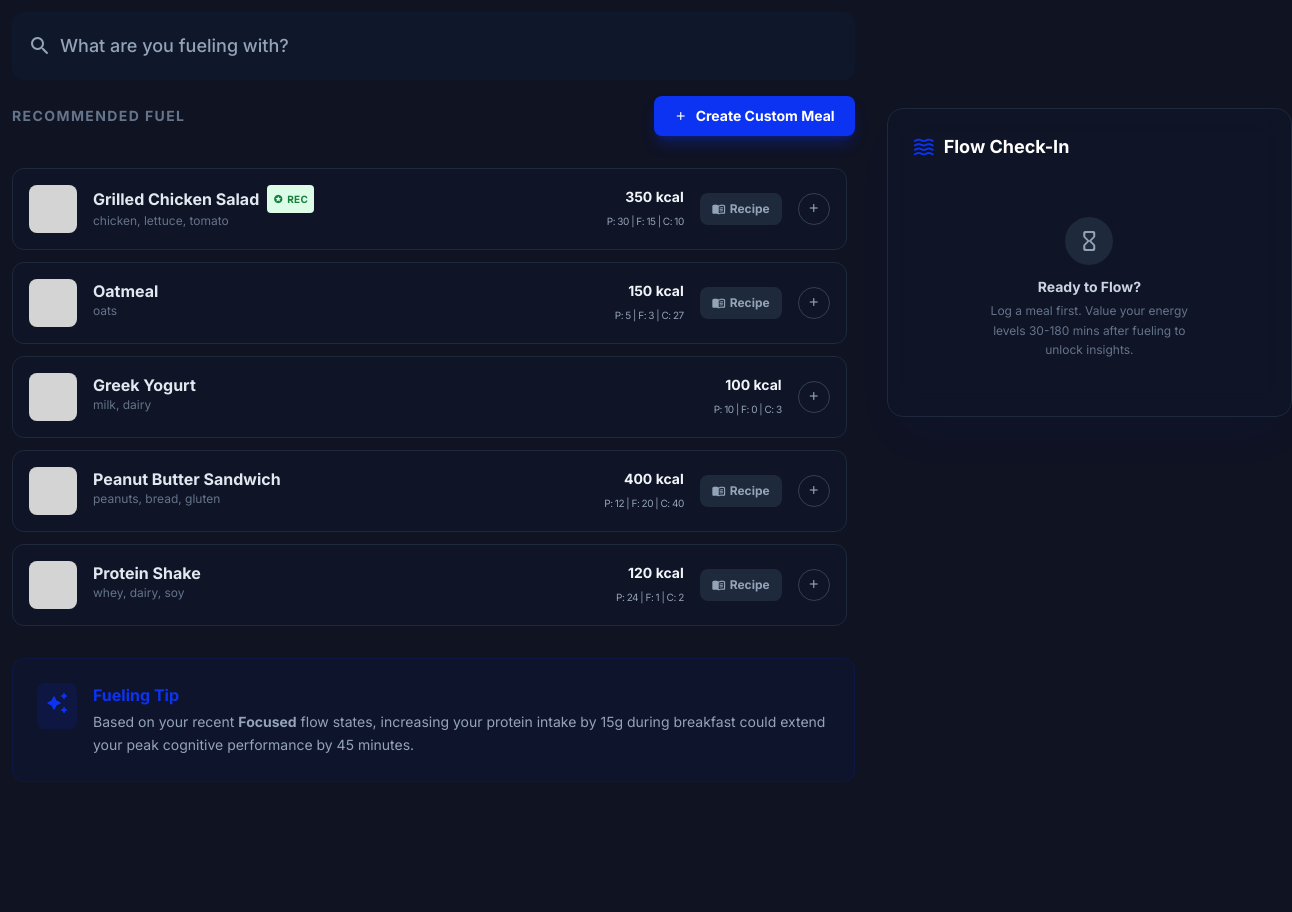
Test: FoodLogger Component › Search Functionality › filters results when typing
The image size is (1292, 912).
Step 1. Type "Donut" into the field with placeholder "What are you fueling with?" → (433, 46), box [12,12,855,80]
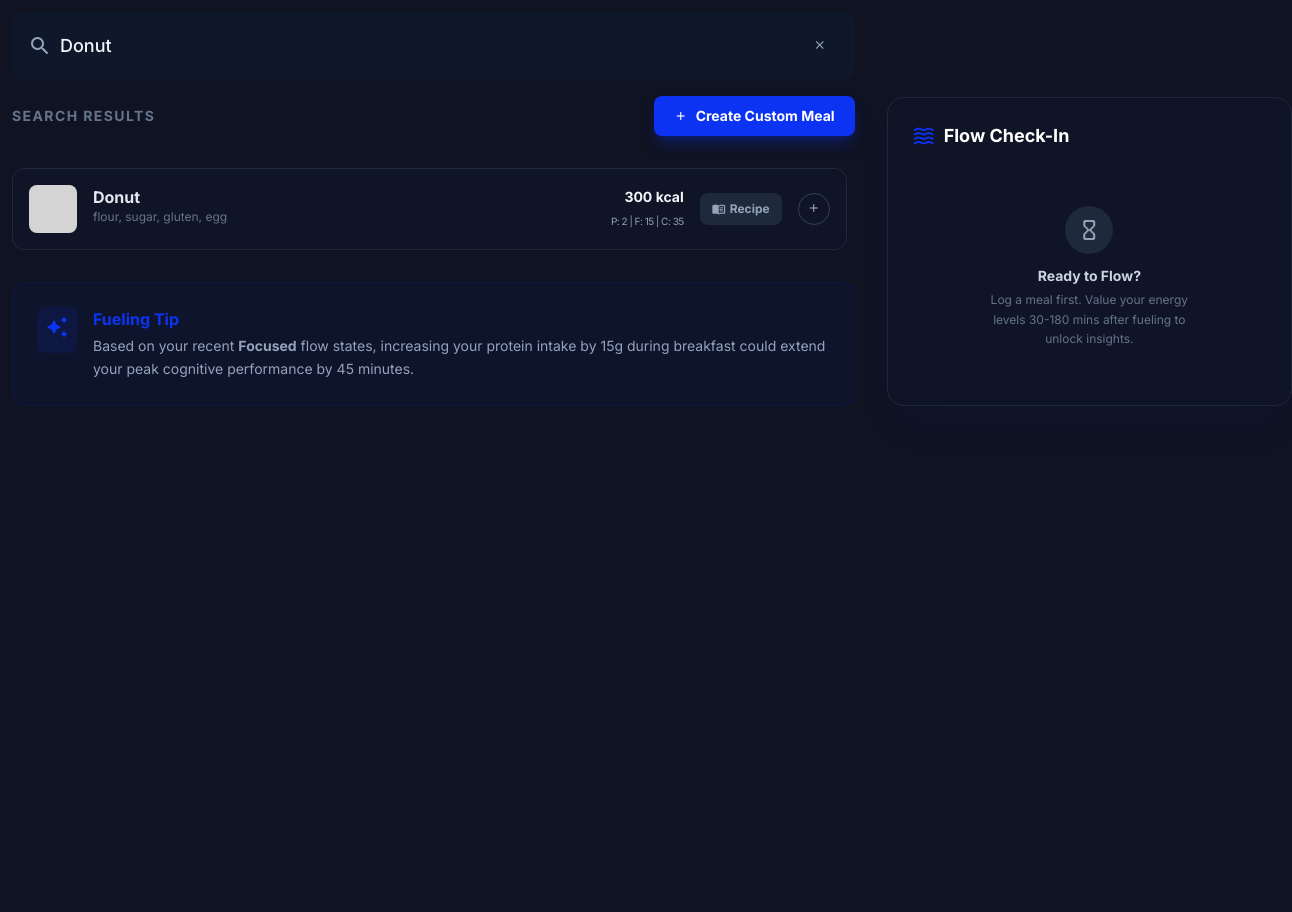
Expected: the text "Donut" is shown, [93,185,140,209]
Expected: the text "Grilled Chicken Salad" is gone
